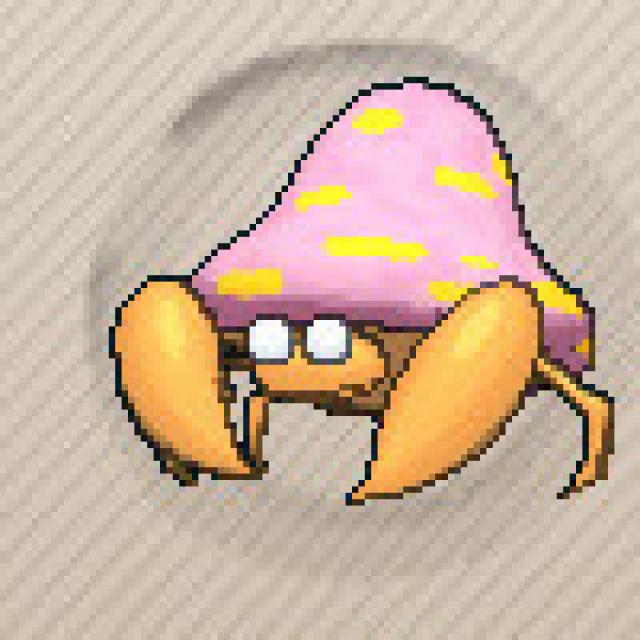Parasect: (127, 83, 620, 513)
